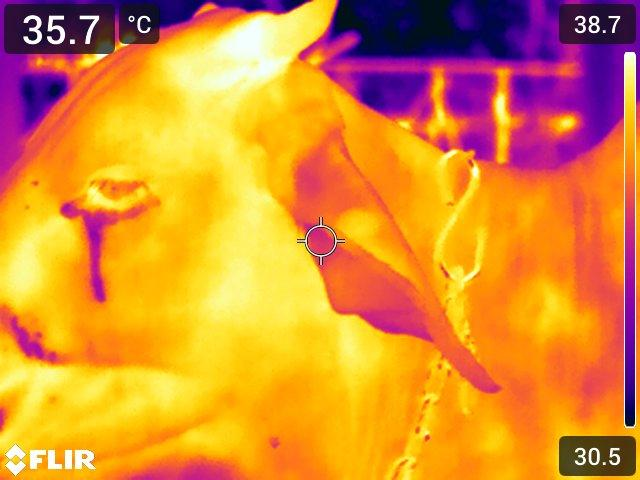ear: (262, 111, 498, 389)
eyes: (56, 157, 188, 236)
